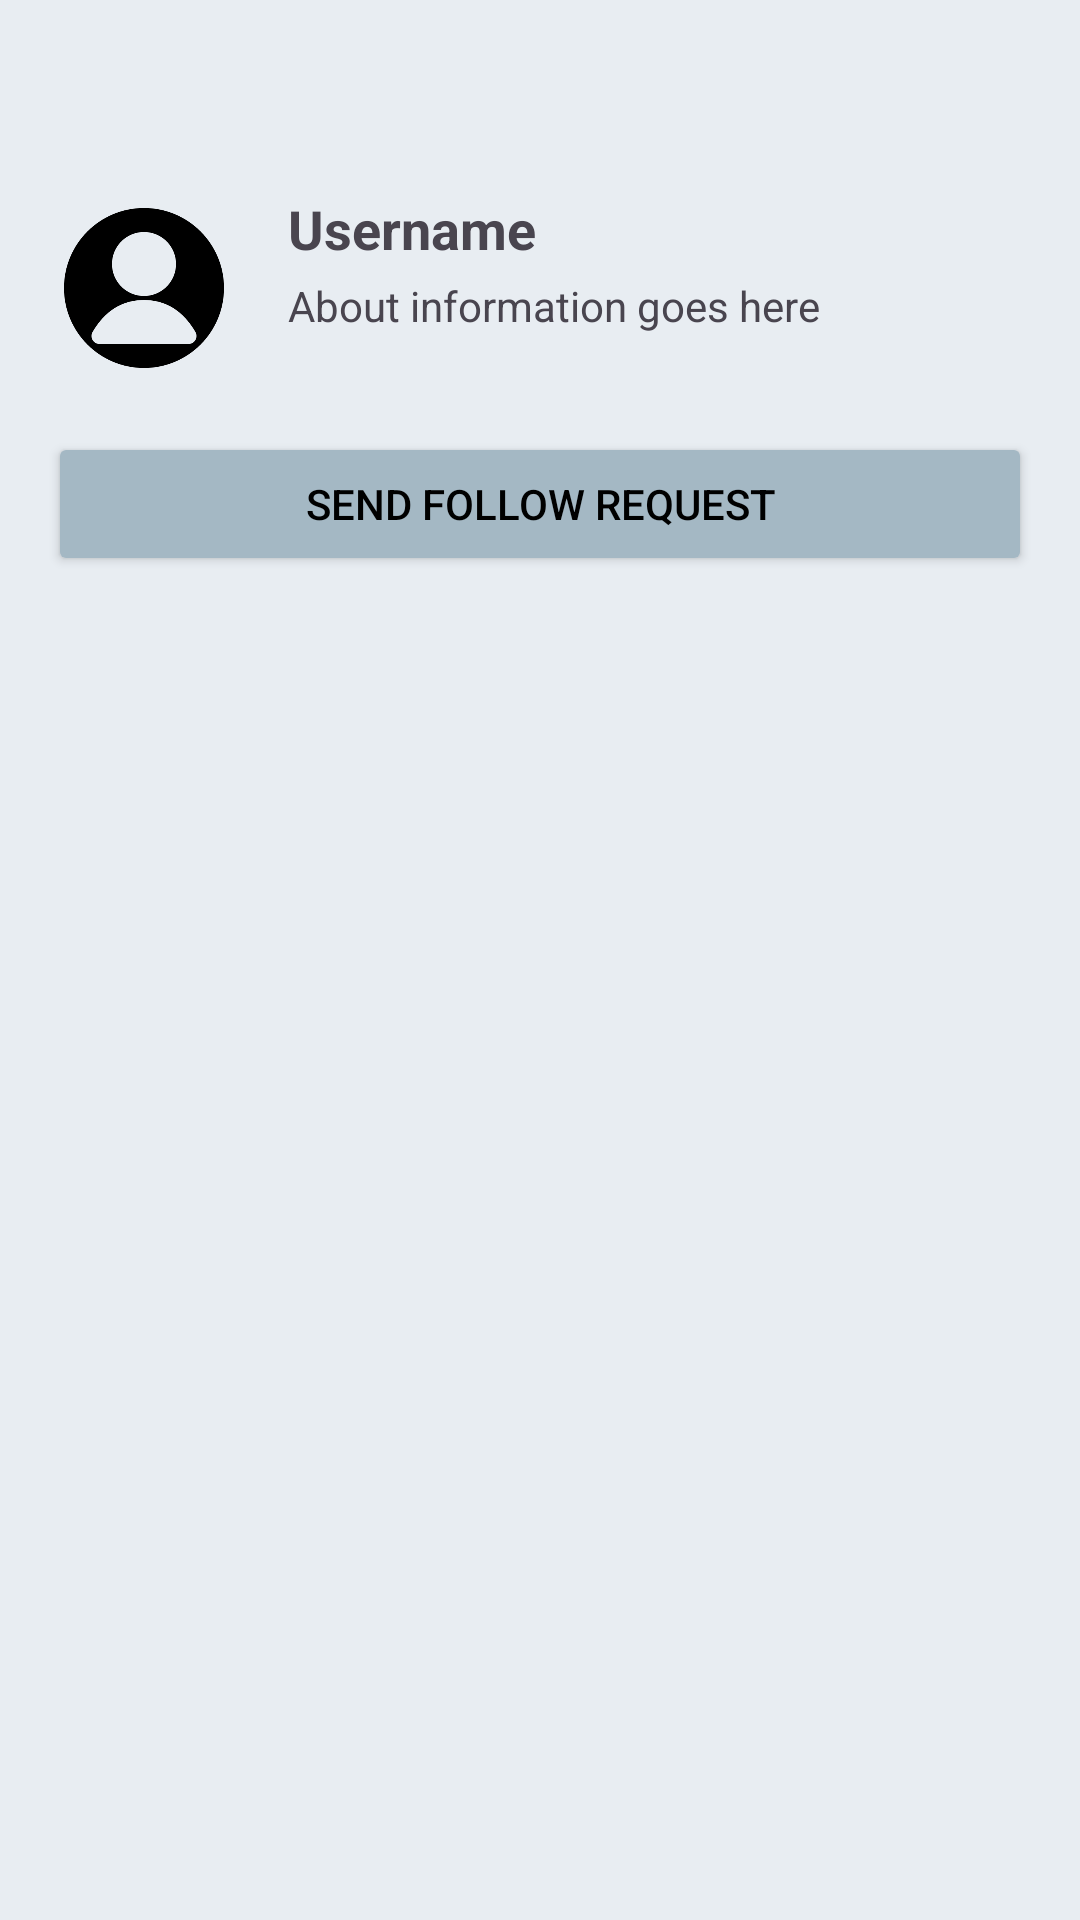

Icon bounding boxes for this 1080w x 1920h phone screenshot, format BBox(x1, y1, x2, y2):
profile: BBox(64, 208, 224, 368)
